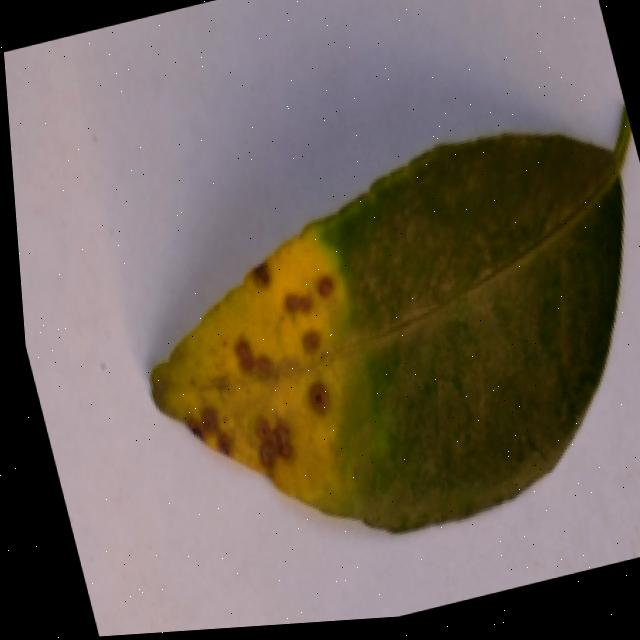canker: (150, 109, 629, 529), (150, 224, 347, 505)
